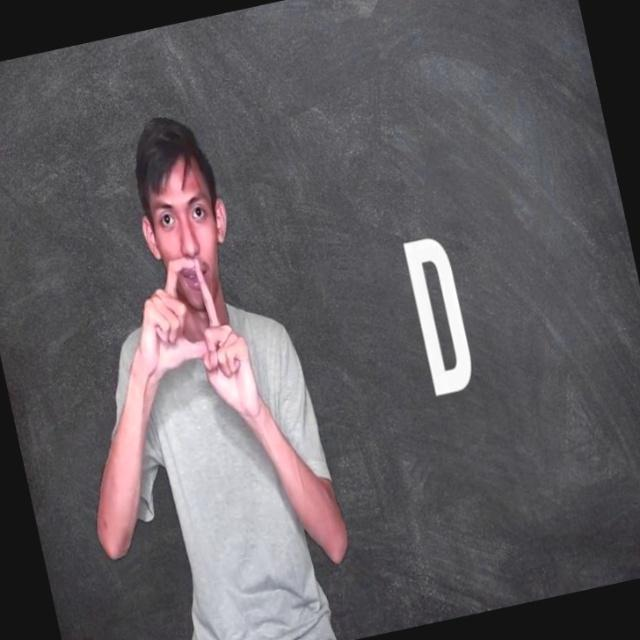D: (143, 256, 243, 377)
